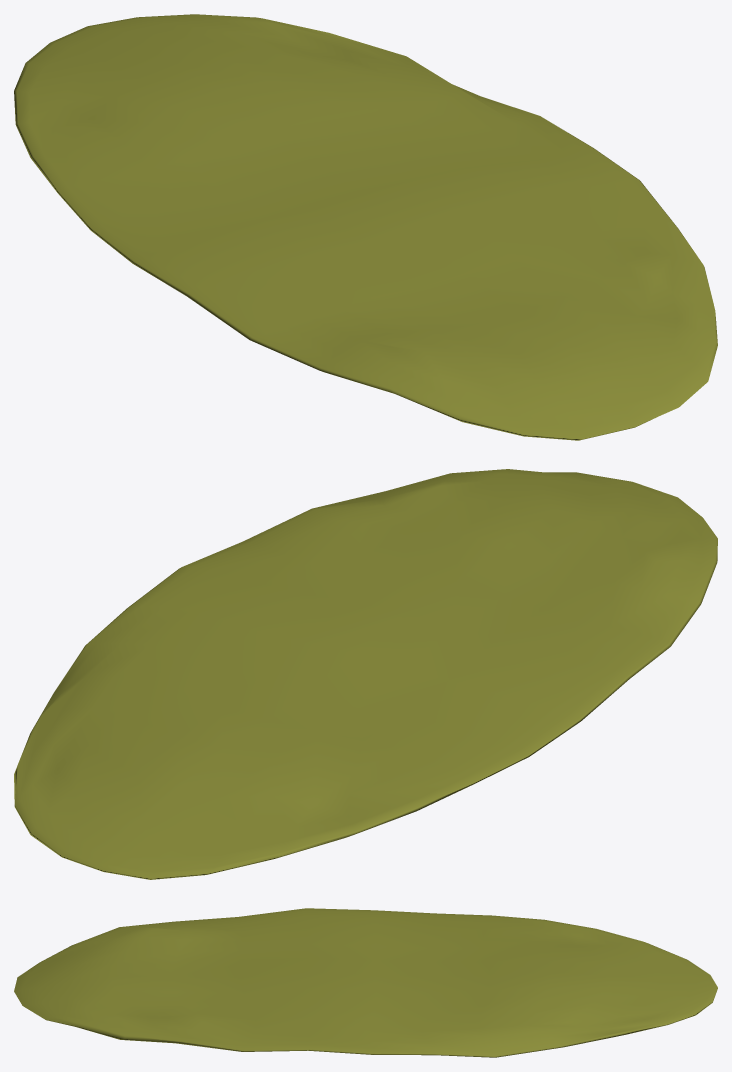
Rendered from lavash choch.fbx.
3 views of the same model, one above another, from view 1: azimuth 30°, elevation 25°; view 2: azimuth 150°, elevation 25°; view 3: azimuth 270°, elevation 25° (orthographic). The views are drawn at different scales.
Parts seen in each view (by area): view 1: lavash_choch; view 2: lavash_choch; view 3: lavash_choch.
Boxes of the visible parts, left/top/right/bottom form: lavash_choch: left=14, top=14, right=717, bottom=440; lavash_choch: left=14, top=469, right=717, bottom=879; lavash_choch: left=14, top=908, right=717, bottom=1057.
Size of the model in its own units: 4.74 by 0.4156 by 9.66.
